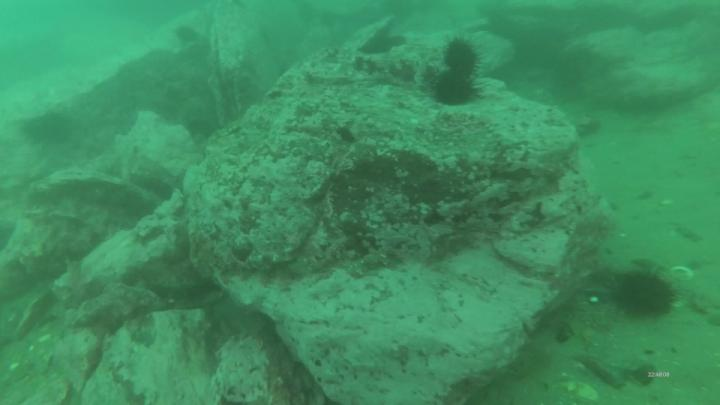echinus: (614, 266, 680, 322), (21, 113, 82, 149), (430, 69, 480, 108), (439, 35, 481, 77), (171, 23, 204, 48)
holothurian: (571, 296, 622, 334)
